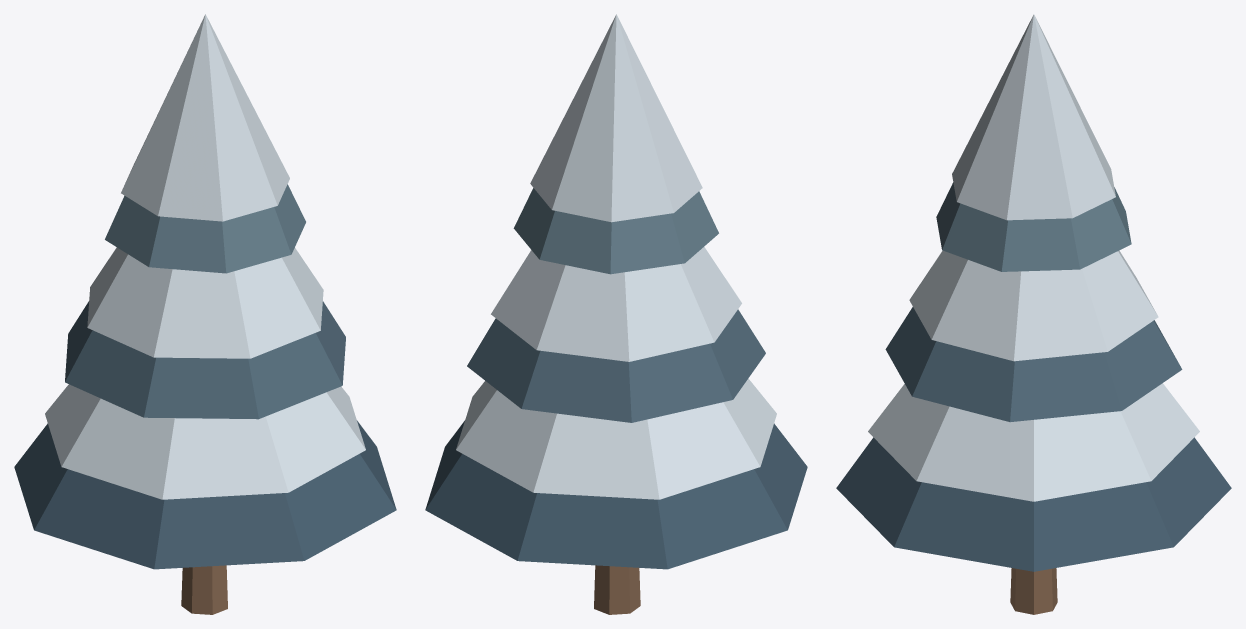
The model's file is night-pine.glb.
3 views of the same model, side by side, from view 1: azimuth 30°, elevation 25°; view 2: azimuth 150°, elevation 25°; view 3: azimuth 270°, elevation 25° (orthographic).
Visible parts, largest first — view 1: night-pine; view 2: night-pine; view 3: night-pine.
Boxes of the visible parts, box(x1,y1,x2,y2) form: night-pine: box(14, 14, 396, 614); night-pine: box(425, 14, 807, 614); night-pine: box(836, 14, 1231, 614).
Size of the model in its own units: 3.1 by 5.11 by 3.1.
